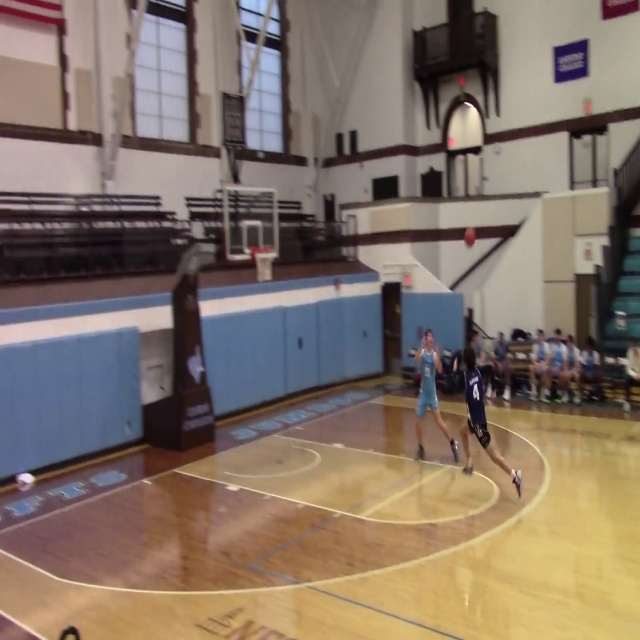Basketball: (464, 227, 475, 247)
